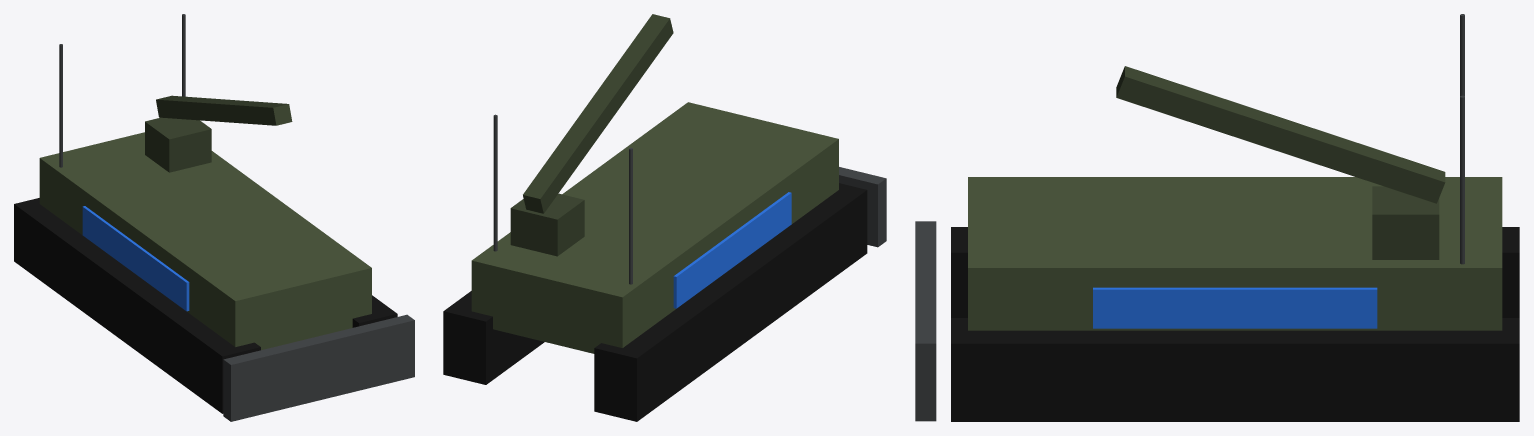
File: kp_engineer.glb
3 views of the same model, side by side, from view 1: azimuth 30°, elevation 25°; view 2: azimuth 150°, elevation 25°; view 3: azimuth 270°, elevation 25° (orthographic). The views are drawn at different scales.
Visible parts, largest first — view 1: hull, track_l, dozer_blade, team_panel_l, crane_base, crane_boom, track_r, whip_0; view 2: hull, track_l, crane_boom, track_r, team_panel_l, crane_base, dozer_blade, whip_1, whip_0; view 3: hull, track_r, team_panel_r, crane_boom, crane_base, dozer_blade, track_l, whip_1.
Part boxes in pixels (left/top/right/bottom): hull: left=39, top=132, right=371, bottom=350; track_l: left=14, top=198, right=260, bottom=413; dozer_blade: left=223, top=314, right=414, bottom=421; team_panel_l: left=82, top=206, right=189, bottom=311; crane_base: left=145, top=117, right=211, bottom=172; crane_boom: left=156, top=95, right=292, bottom=125; track_r: left=352, top=295, right=397, bottom=327; whip_0: left=59, top=44, right=62, bottom=167; hull: left=471, top=102, right=838, bottom=353; track_l: left=594, top=183, right=867, bottom=421; crane_boom: left=523, top=14, right=673, bottom=213; track_r: left=443, top=291, right=544, bottom=384; team_panel_l: left=673, top=192, right=791, bottom=308; crane_base: left=510, top=193, right=584, bottom=256; dozer_blade: left=839, top=167, right=886, bottom=247; whip_1: left=493, top=114, right=497, bottom=251; whip_0: left=629, top=148, right=632, bottom=284; hull: left=968, top=177, right=1502, bottom=330; track_r: left=951, top=318, right=1519, bottom=421; team_panel_r: left=1093, top=287, right=1377, bottom=328; crane_boom: left=1116, top=66, right=1445, bottom=203; crane_base: left=1372, top=186, right=1439, bottom=259; dozer_blade: left=915, top=221, right=936, bottom=421; track_l: left=951, top=227, right=1519, bottom=317; whip_1: left=1460, top=95, right=1464, bottom=264.
Bounding box in the file's own units: 3.46 × 4.17 × 7.23.
